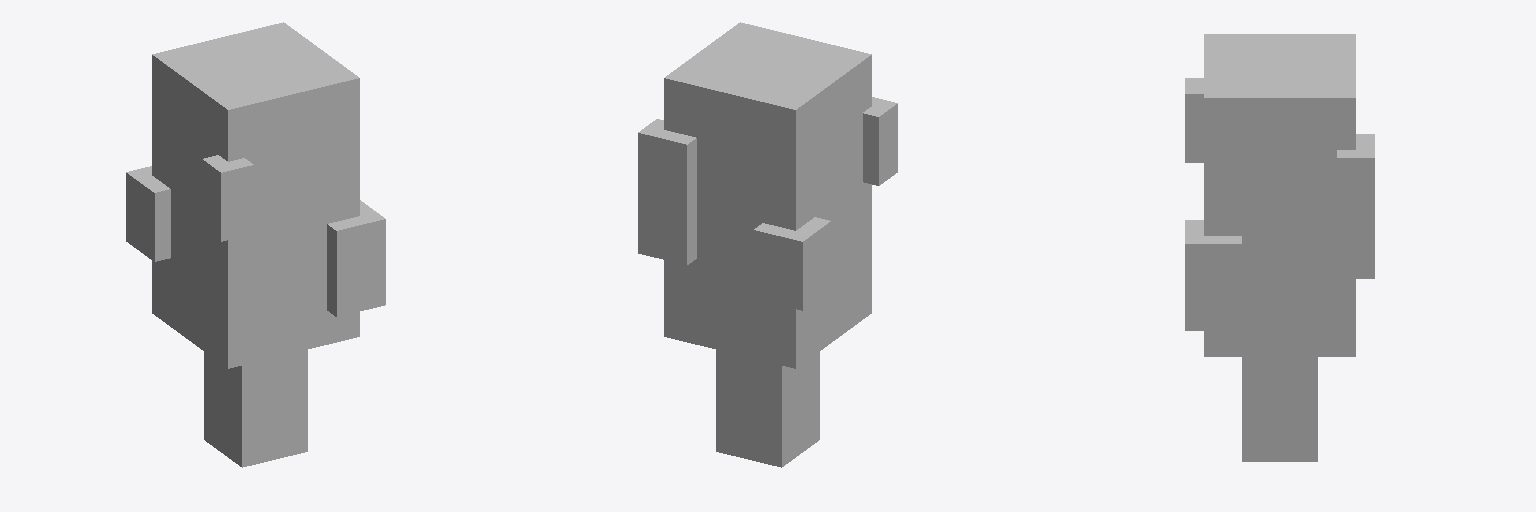
File: tree_1.obj
3 renders of one model, left to right at view 1: azimuth 30°, elevation 25°; view 2: azimuth 150°, elevation 25°; view 3: azimuth 270°, elevation 25°, orthographic.
Parts seen in each view (by area): view 1: object 1; view 2: object 1; view 3: object 1.
Part boxes in pixels (bbox=[...]): object 1: bbox=[126, 22, 385, 467]; object 1: bbox=[638, 22, 897, 467]; object 1: bbox=[1185, 34, 1374, 461].
Size of the model in its own units: 1 by 2.2 by 1.